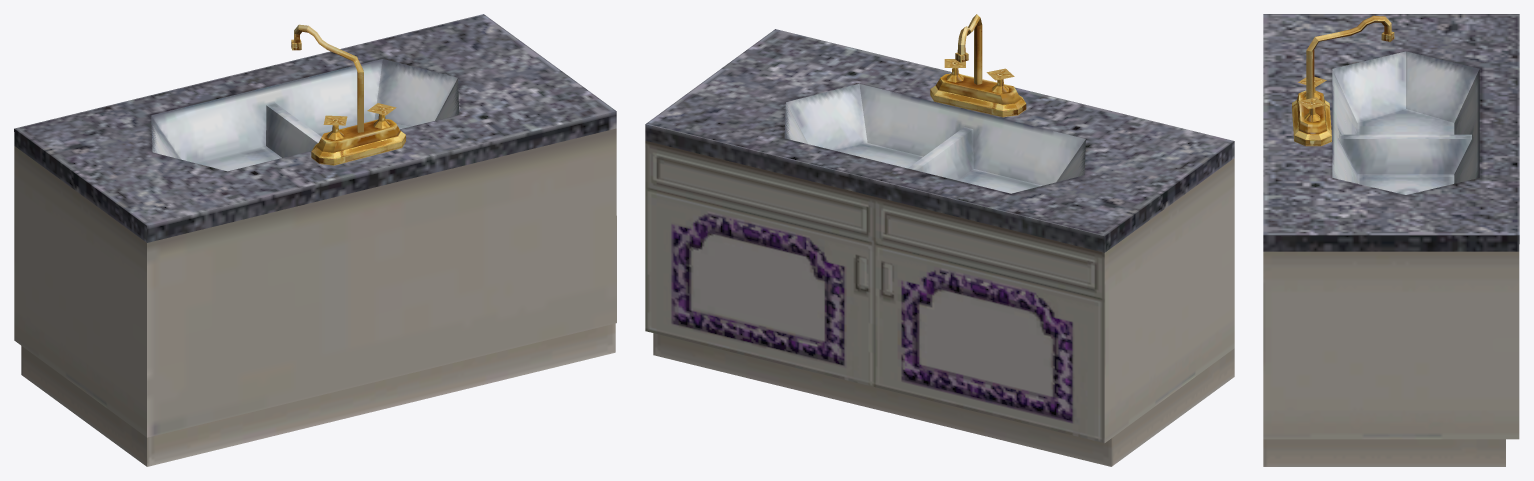
The model's file is furni_0200089_03.FBX.
3 views of the same model, side by side, from view 1: azimuth 30°, elevation 25°; view 2: azimuth 150°, elevation 25°; view 3: azimuth 270°, elevation 25° (orthographic). The views are drawn at different scales.
Parts seen in each view (by area): view 1: furni_0200089_03; view 2: furni_0200089_03; view 3: furni_0200089_03.
Boxes of the visible parts, x1,y1,x2,y2 form: furni_0200089_03: (14,14,616,466); furni_0200089_03: (645,14,1234,466); furni_0200089_03: (1263,14,1519,466).
Size of the model in its own units: 163 by 115 by 80.
1 material, 1 textured.
